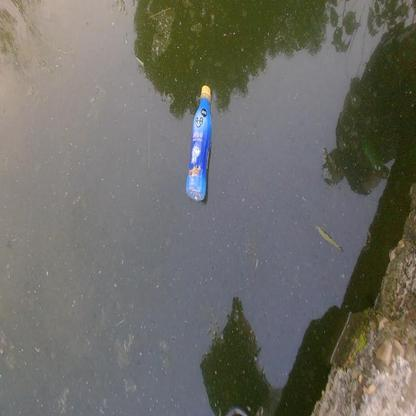plastic bottle: (187, 86, 211, 202)
